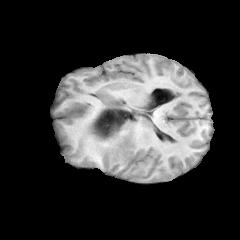glioma: (89, 100, 136, 166)
